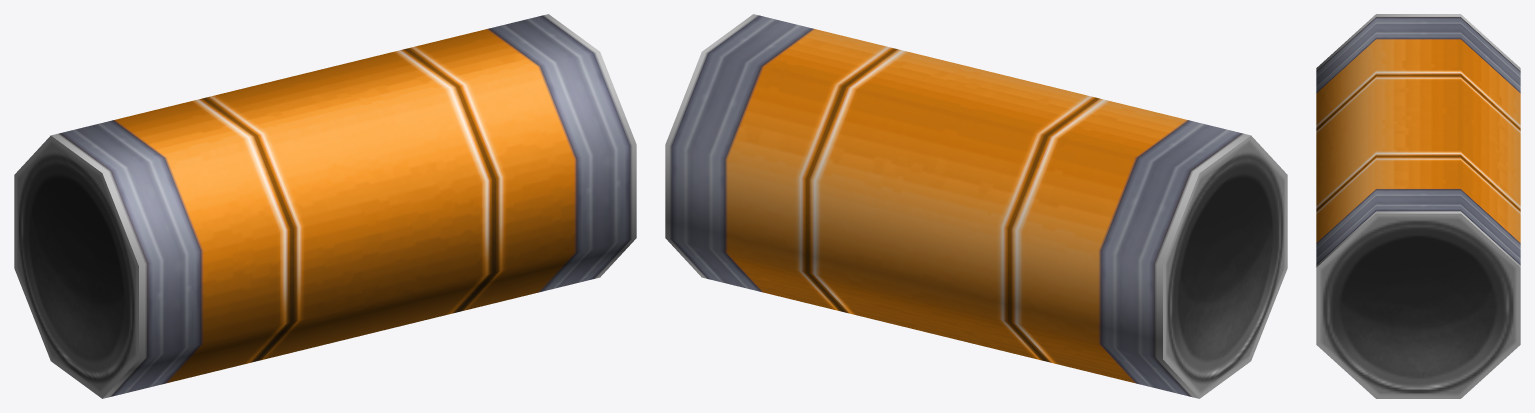
Rendered from Block_ShuiNiGuan.FBX.
3 views of the same model, side by side, from view 1: azimuth 30°, elevation 25°; view 2: azimuth 150°, elevation 25°; view 3: azimuth 270°, elevation 25° (orthographic). The views are drawn at different scales.
Visible parts, largest first — view 1: Block_ShuiNiGuan; view 2: Block_ShuiNiGuan; view 3: Block_ShuiNiGuan.
Boxes of the visible parts, x1,y1,x2,y2 form: Block_ShuiNiGuan: (14, 14, 636, 398); Block_ShuiNiGuan: (665, 14, 1287, 398); Block_ShuiNiGuan: (1316, 14, 1520, 398).
Bounding box in the file's own units: 213 × 92.48 × 92.48.
